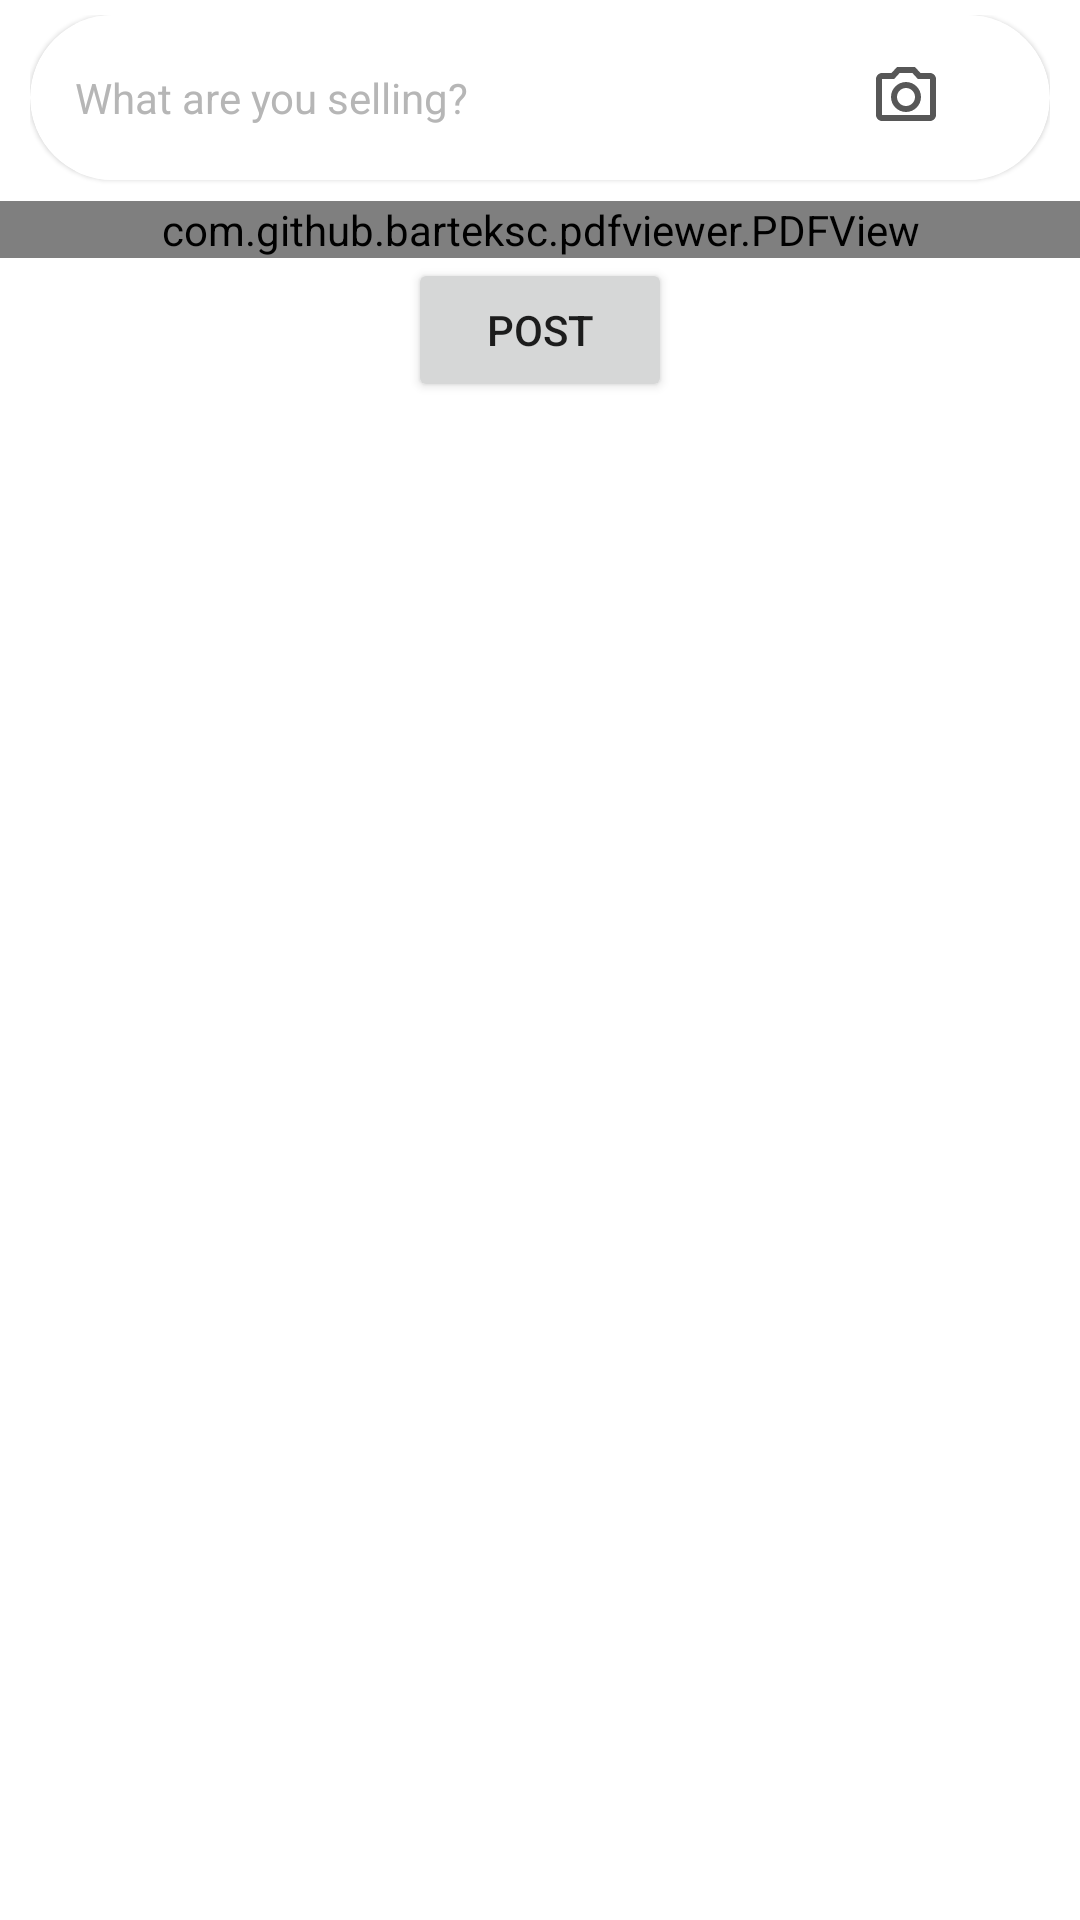

Where to tap for icons on this 1080 x 1920 app screen, as point (x, y):
camera: point (906, 94)
